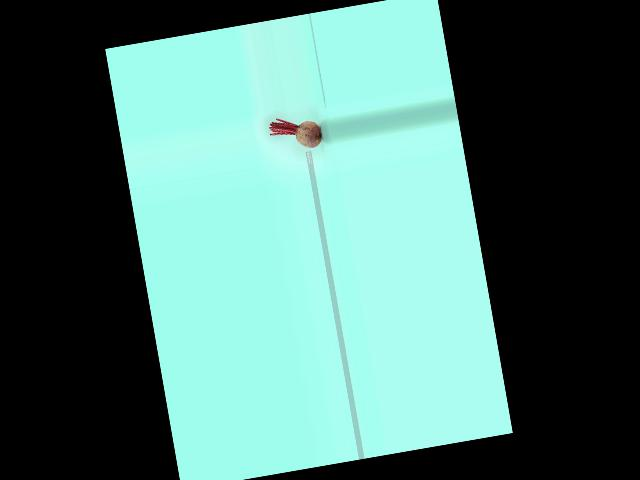beet: (267, 111, 323, 154)
